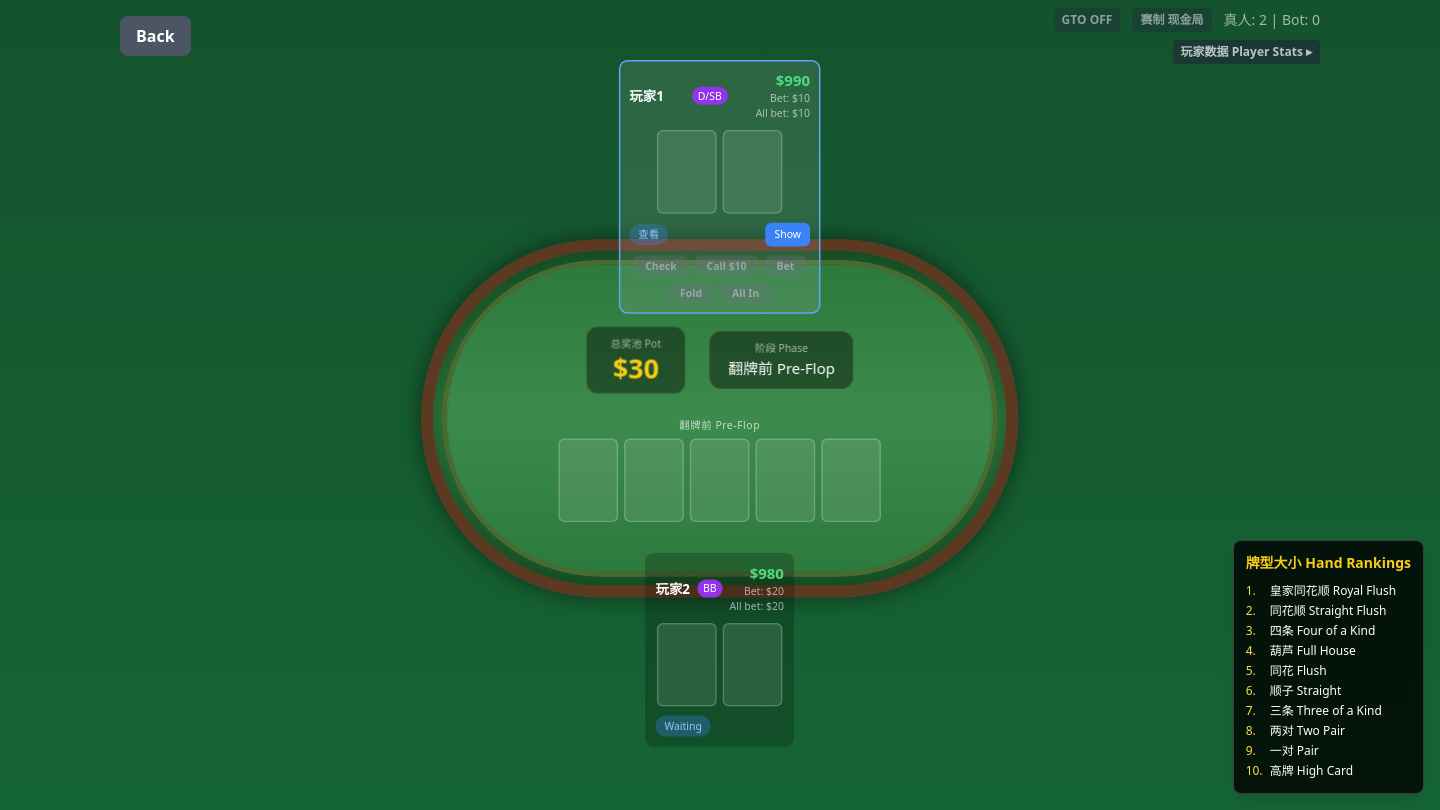
Test: GameBoard → HandAnalysis 权益面板链路 › 真人展开手牌后显示两行权益，且 gameState 确实透传到了范围推断
This screenshot has width=1440, height=810.
Note: 点开真人玩家的手牌
Click the button "Show" at (788, 235), box [766,223,810,247]
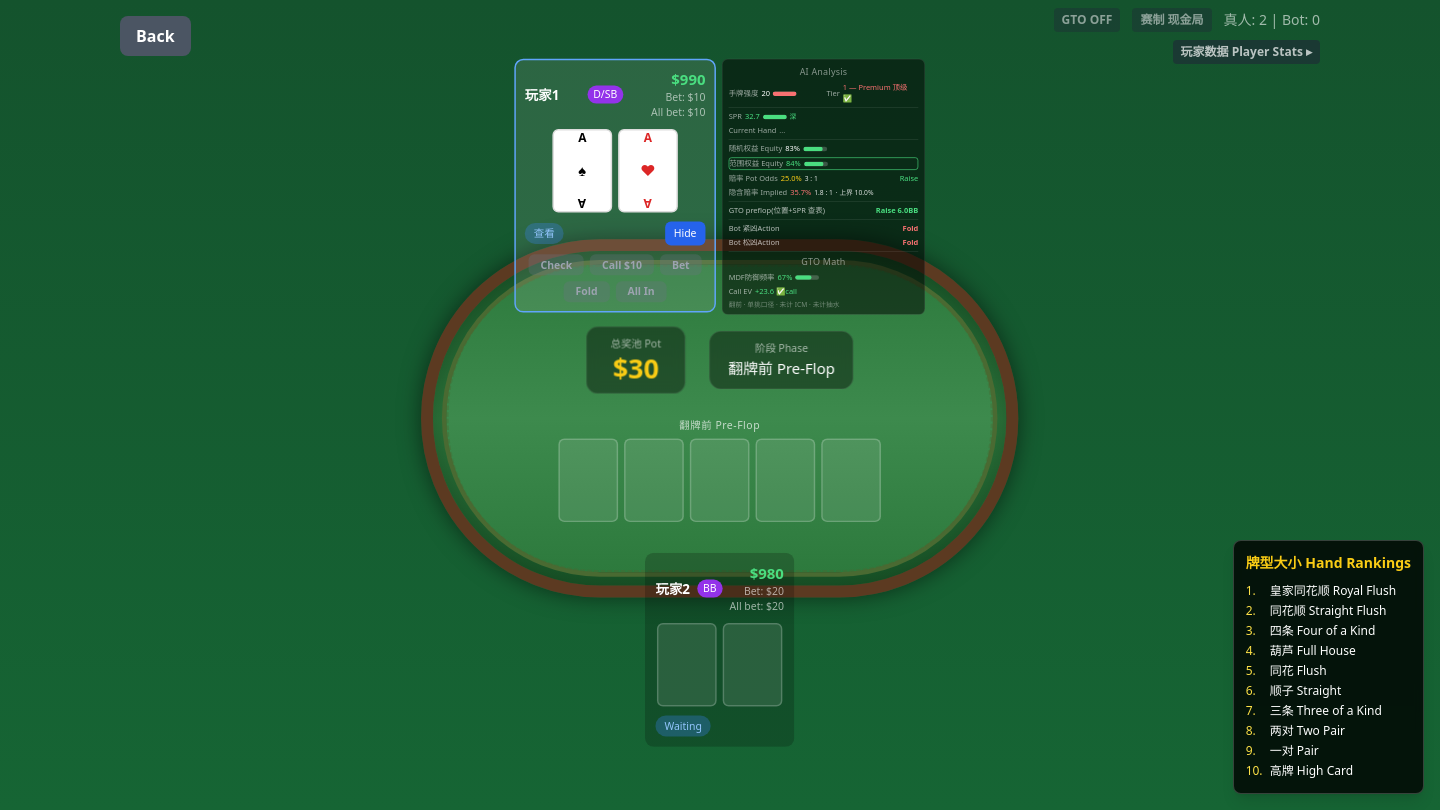
Now the text "随机权益 Equity" is shown, box [729,143,783,155]
Now the text "范围权益 Equity" is shown, box [730,158,783,170]
